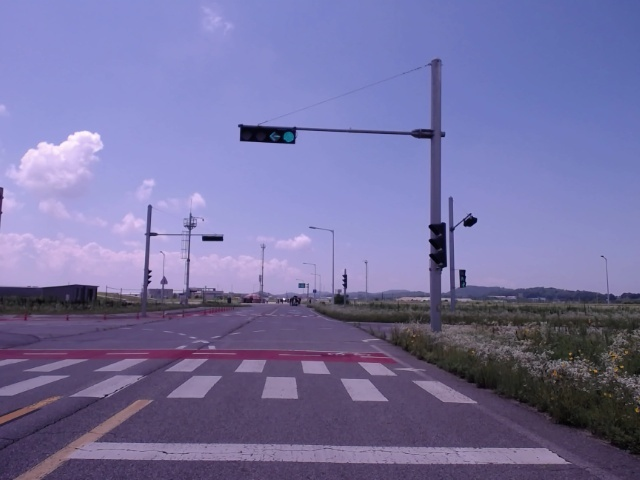all_green_4: (238, 123, 292, 146), (239, 124, 293, 142)
